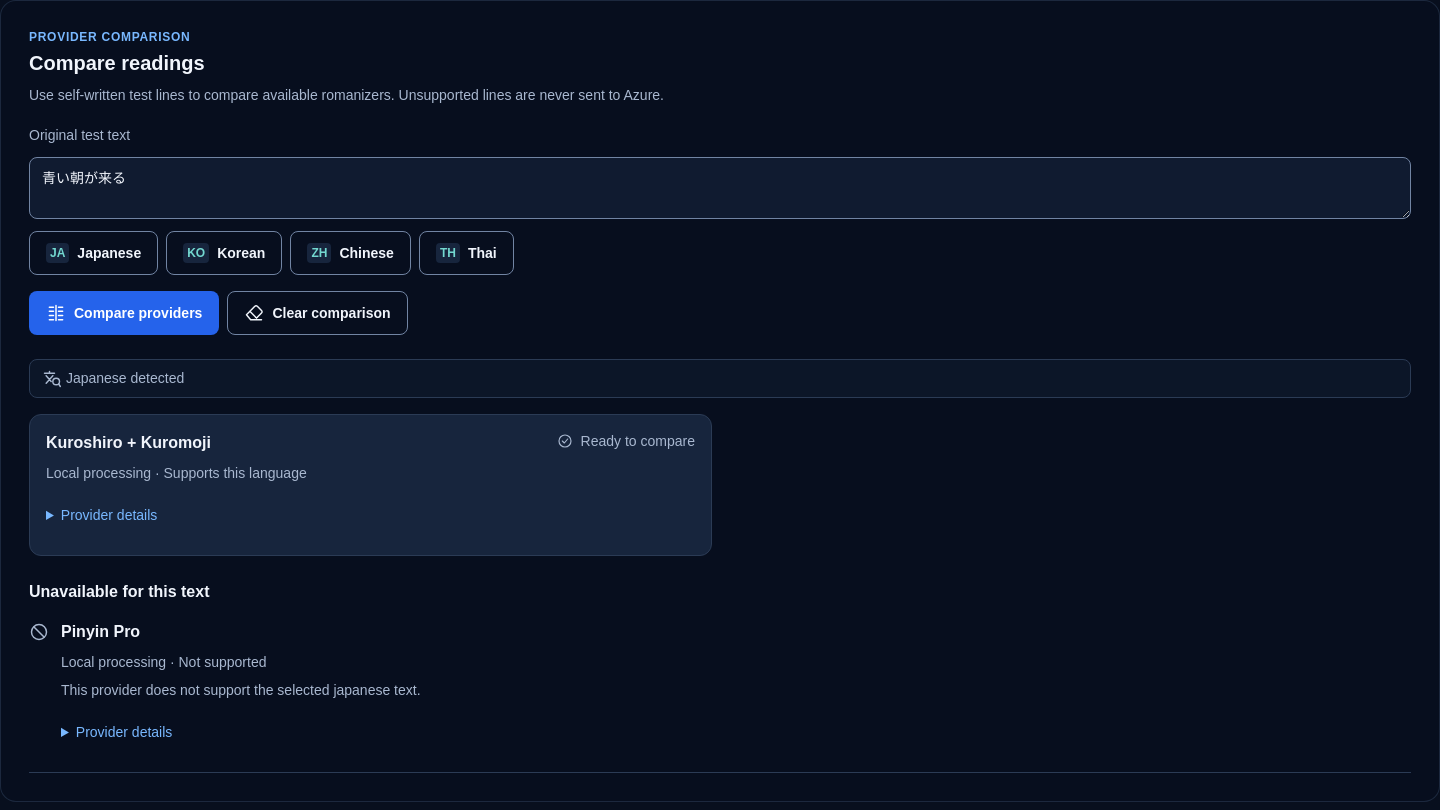
Test: ProviderComparison › selects only the Chinese provider for the Chinese preset
Click the button "ZH Chinese" at [351, 253], box left=290, top=231, right=411, bottom=275
(page scrolled)
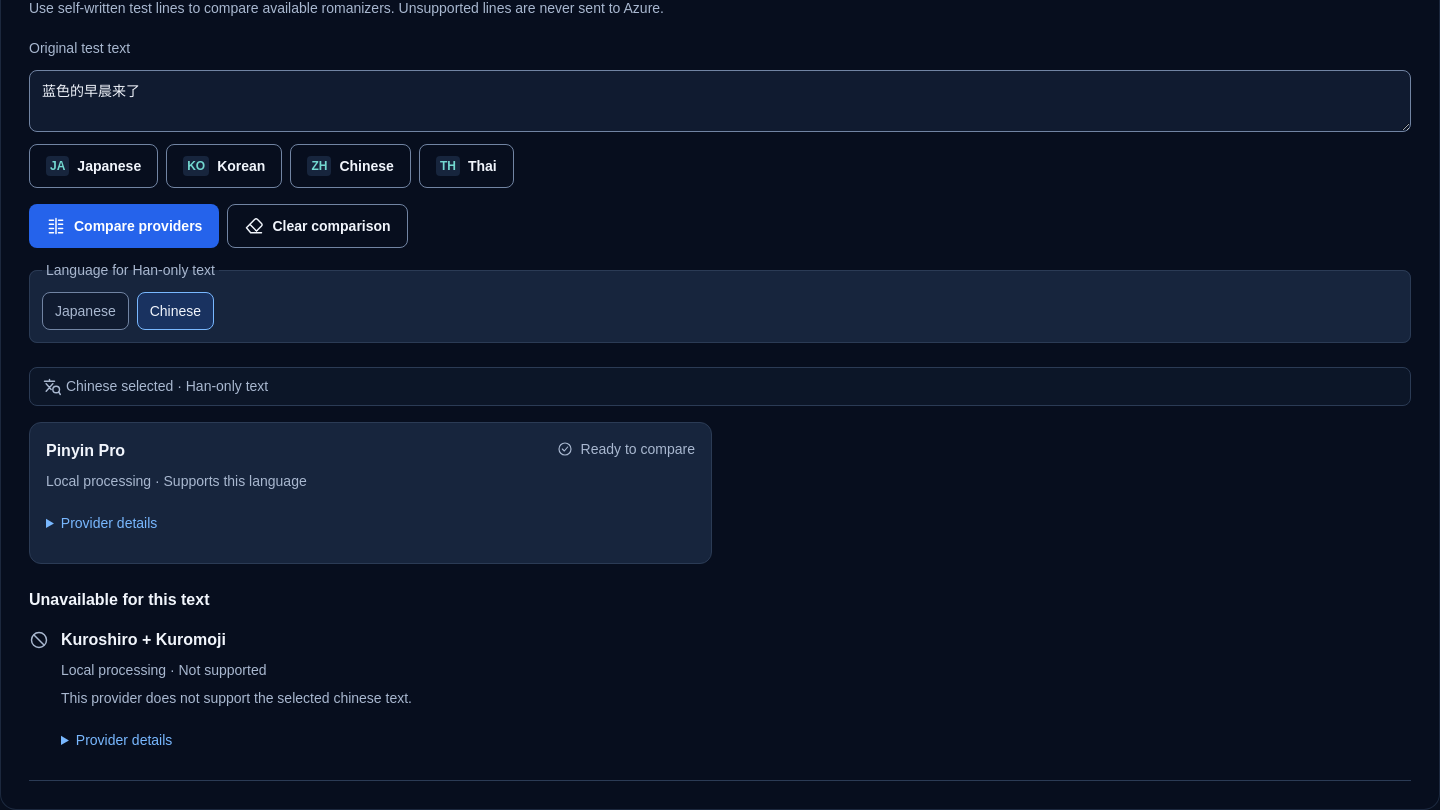
Check: the text "Kuroshiro + Kuromoji" shows "Not supported", box left=166, top=662, right=266, bottom=678
Check: the element named "Detected language" reads "Chinese selected · Han-only text", box left=66, top=378, right=268, bottom=394
